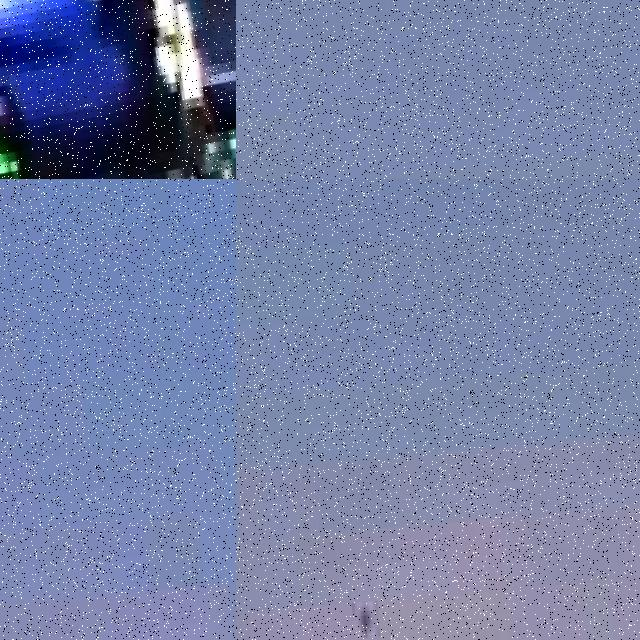drone: (0, 0, 236, 179)
